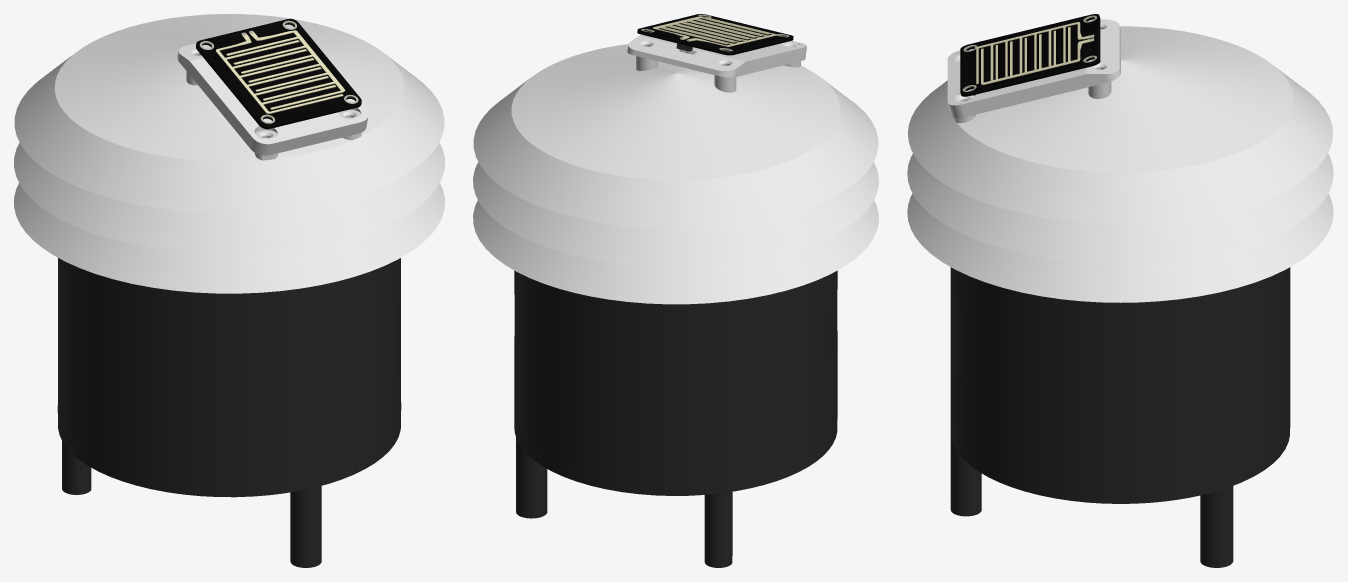
File: finalWeb.glb
3 views of the same model, side by side, from view 1: azimuth 30°, elevation 25°; view 2: azimuth 150°, elevation 25°; view 3: azimuth 270°, elevation 25° (orthographic). The views are drawn at different scales.
Parts seen in each view (by area): view 1: Bottom, TopRoof, MiddleRoof, BottomRoof, RainSensor, Legs; view 2: TopRoof, Bottom, MiddleRoof, BottomRoof, Legs, RainSensor; view 3: Bottom, TopRoof, MiddleRoof, BottomRoof, Legs, RainSensor.
Boxes of the visible parts, <box> form: Bottom: <box>57,258,401,483</box>; TopRoof: <box>14,14,444,213</box>; MiddleRoof: <box>14,142,444,253</box>; BottomRoof: <box>14,183,444,293</box>; RainSensor: <box>196,18,361,129</box>; Legs: <box>58,415,400,567</box>; TopRoof: <box>473,35,878,228</box>; Bottom: <box>514,270,837,483</box>; MiddleRoof: <box>473,162,878,266</box>; BottomRoof: <box>473,200,878,304</box>; Legs: <box>514,416,837,567</box>; RainSensor: <box>637,14,793,55</box>; Bottom: <box>950,267,1290,490</box>; TopRoof: <box>908,19,1332,223</box>; MiddleRoof: <box>907,153,1333,263</box>; BottomRoof: <box>907,193,1333,302</box>; Legs: <box>950,420,1290,567</box>; RainSensor: <box>960,14,1100,96</box>.
Bounding box in the file's own units: 0.296 × 0.3643 × 0.296.
